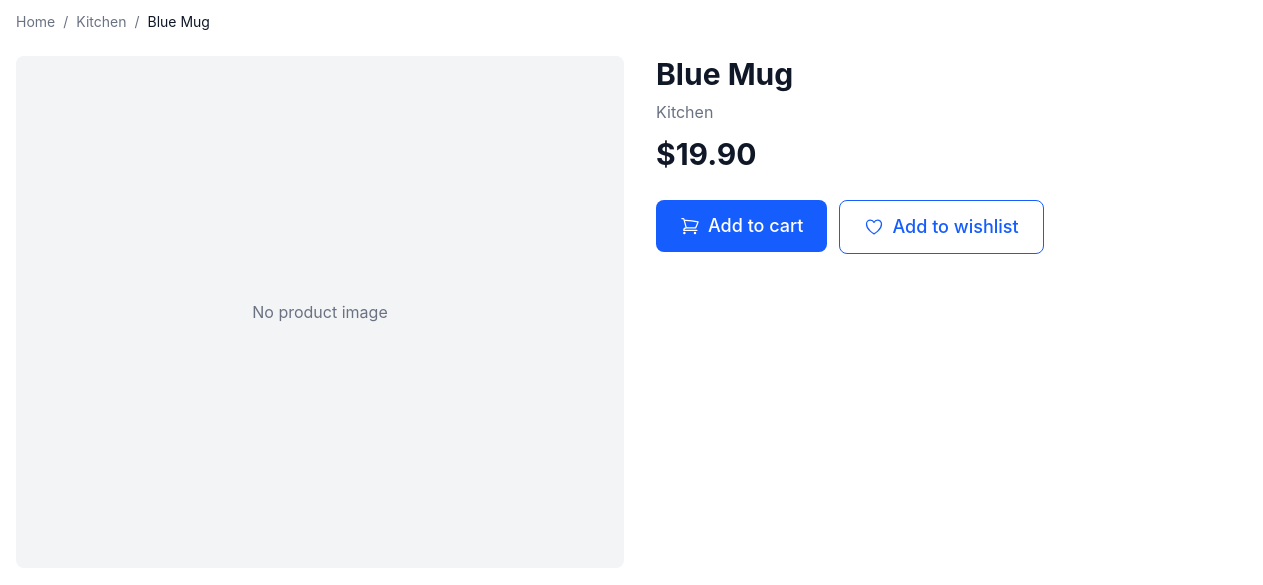
ProductDetailPage add to cart › shows an error and does not navigate when the product became inactive meanwhile
This screenshot has width=1263, height=585.
Click the button "Add to cart".
click(742, 226)  # box [656,200,828,252]
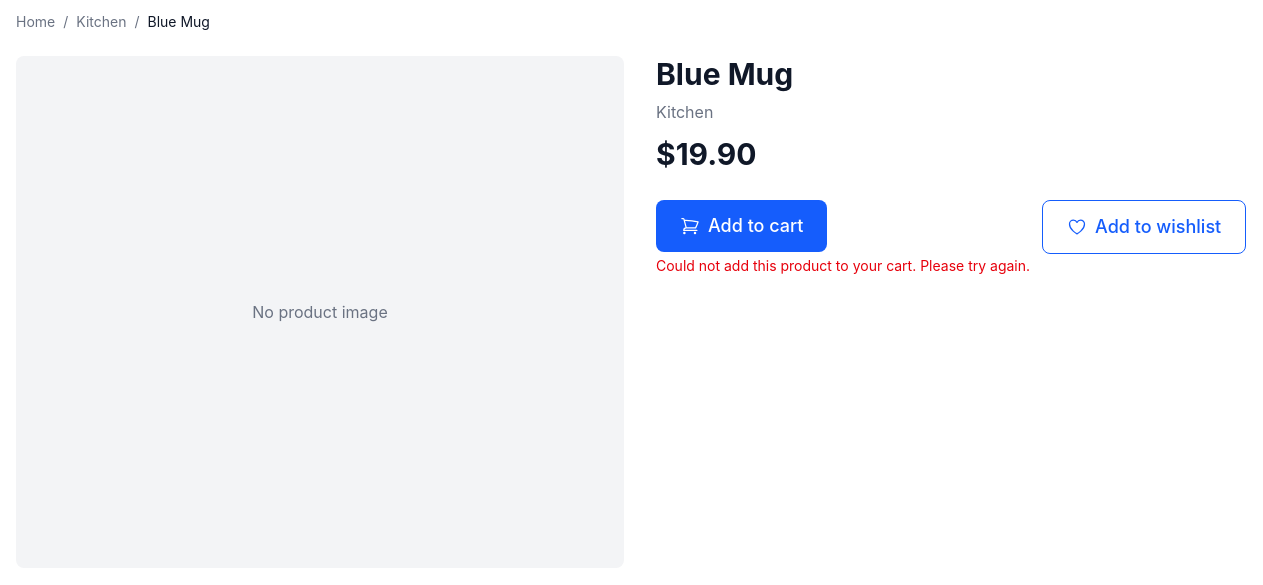
expect the heading "Blue Mug" is shown: met, box [656,56,793,92]
expect the text "Could not add this product to your cart. Please try again." is shown: met, box [656,256,1030,276]
